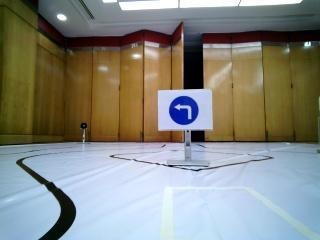left: (161, 94, 210, 128)
